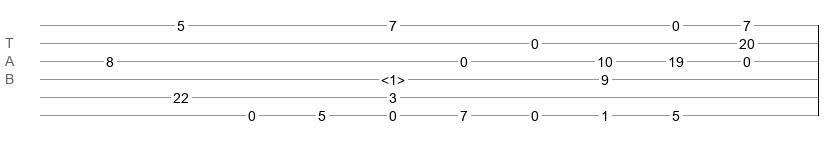0: (248, 108, 256, 118), (389, 108, 397, 118), (460, 54, 468, 64), (531, 108, 539, 118), (531, 36, 539, 46), (672, 18, 680, 28), (743, 54, 751, 64)
1: (601, 108, 609, 118)
10: (597, 54, 613, 64)
19: (668, 54, 684, 64)
20: (739, 36, 755, 46)
22: (173, 90, 189, 100)
3: (389, 90, 397, 100)
5: (177, 18, 185, 28), (318, 108, 326, 118), (672, 108, 680, 118)
7: (389, 18, 397, 28), (460, 108, 468, 118), (743, 18, 751, 28)
8: (106, 54, 114, 64)
9: (601, 72, 609, 82)
harmonic: (381, 72, 405, 82)
